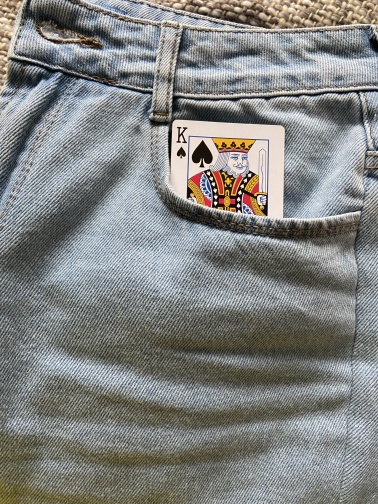king: (167, 118, 286, 301)
